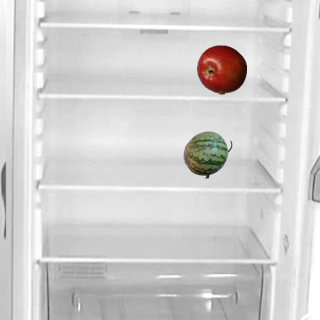Apple Braeburn: (196, 44, 246, 94)
Watermelon: (182, 129, 232, 179)
